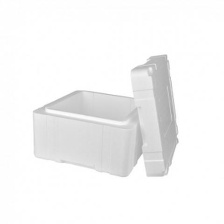foam_box: (26, 85, 163, 180), (125, 48, 182, 180)
